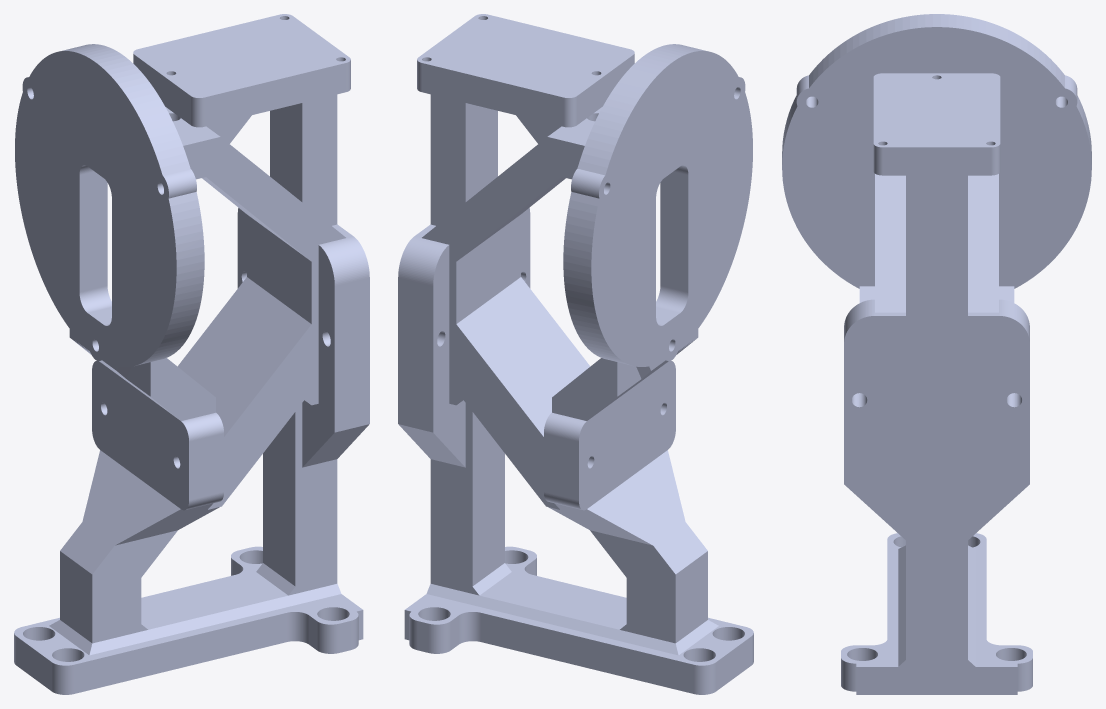
File: Suporte_Lidar_V005.dae
3 views of the same model, side by side, from view 1: azimuth 30°, elevation 25°; view 2: azimuth 150°, elevation 25°; view 3: azimuth 270°, elevation 25° (orthographic). The views are drawn at different scales.
Visible parts, largest first — view 1: node0; view 2: node0; view 3: node0.
Part boxes in pixels (x1=…): node0: x1=14, y1=14, x2=369, y2=694; node0: x1=398, y1=14, x2=753, y2=694; node0: x1=782, y1=14, x2=1091, y2=694.
Bounding box in the file's own units: 0.1025 × 0.1 × 0.205.
